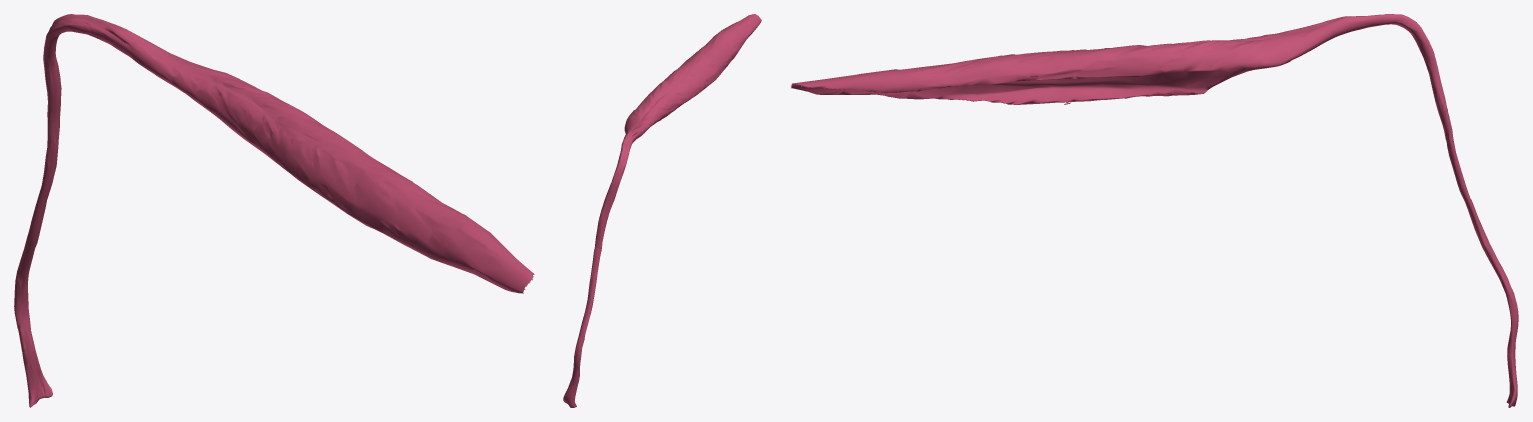
3 views of the same model, side by side, from view 1: azimuth 30°, elevation 25°; view 2: azimuth 150°, elevation 25°; view 3: azimuth 270°, elevation 25° (orthographic). The views are drawn at different scales.
Parts seen in each view (by area): view 1: 左侧踇长屈肌; view 2: 左侧踇长屈肌; view 3: 左侧踇长屈肌.
Boxes of the visible parts, box(x1,y1,x2,y2) form: 左侧踇长屈肌: box(14, 14, 534, 407); 左侧踇长屈肌: box(563, 14, 761, 407); 左侧踇长屈肌: box(791, 14, 1518, 407).
Size of the model in its own units: 0.0834 by 0.2722 by 0.468.
